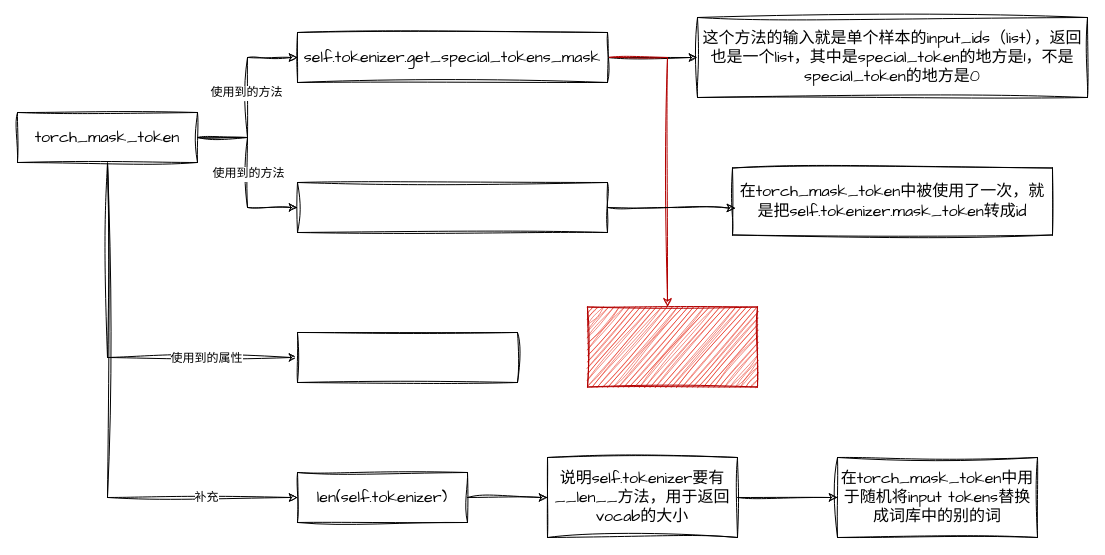
The diagram is 1105 pixels wide and 555 high, and some of its shapes have lost their labels. The centre of each missing label's shape, as x and y in pixels:
...... 懒得再继续跳进去看了，已经知道是干什么的了，自己写一个好了: (x=672, y=346)
self.tokenizer.convert_tokens_to_ids: (x=452, y=207)
self.tokenizer.mask_token: (x=407, y=357)
